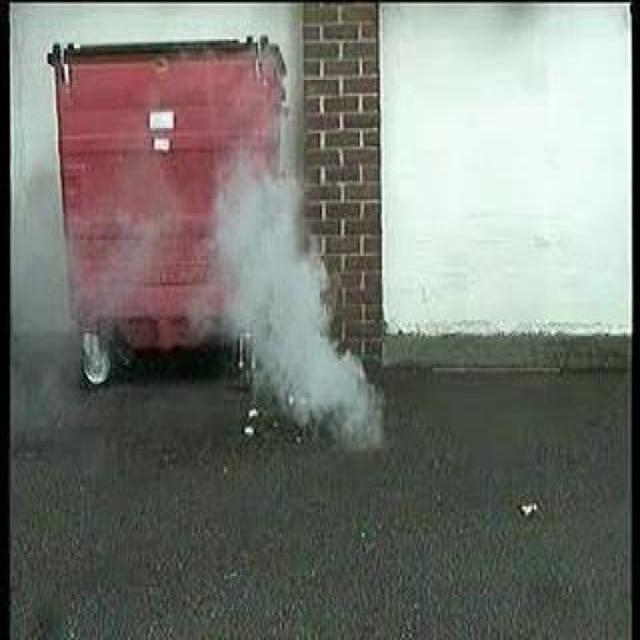Smoke: (211, 144, 387, 455)
